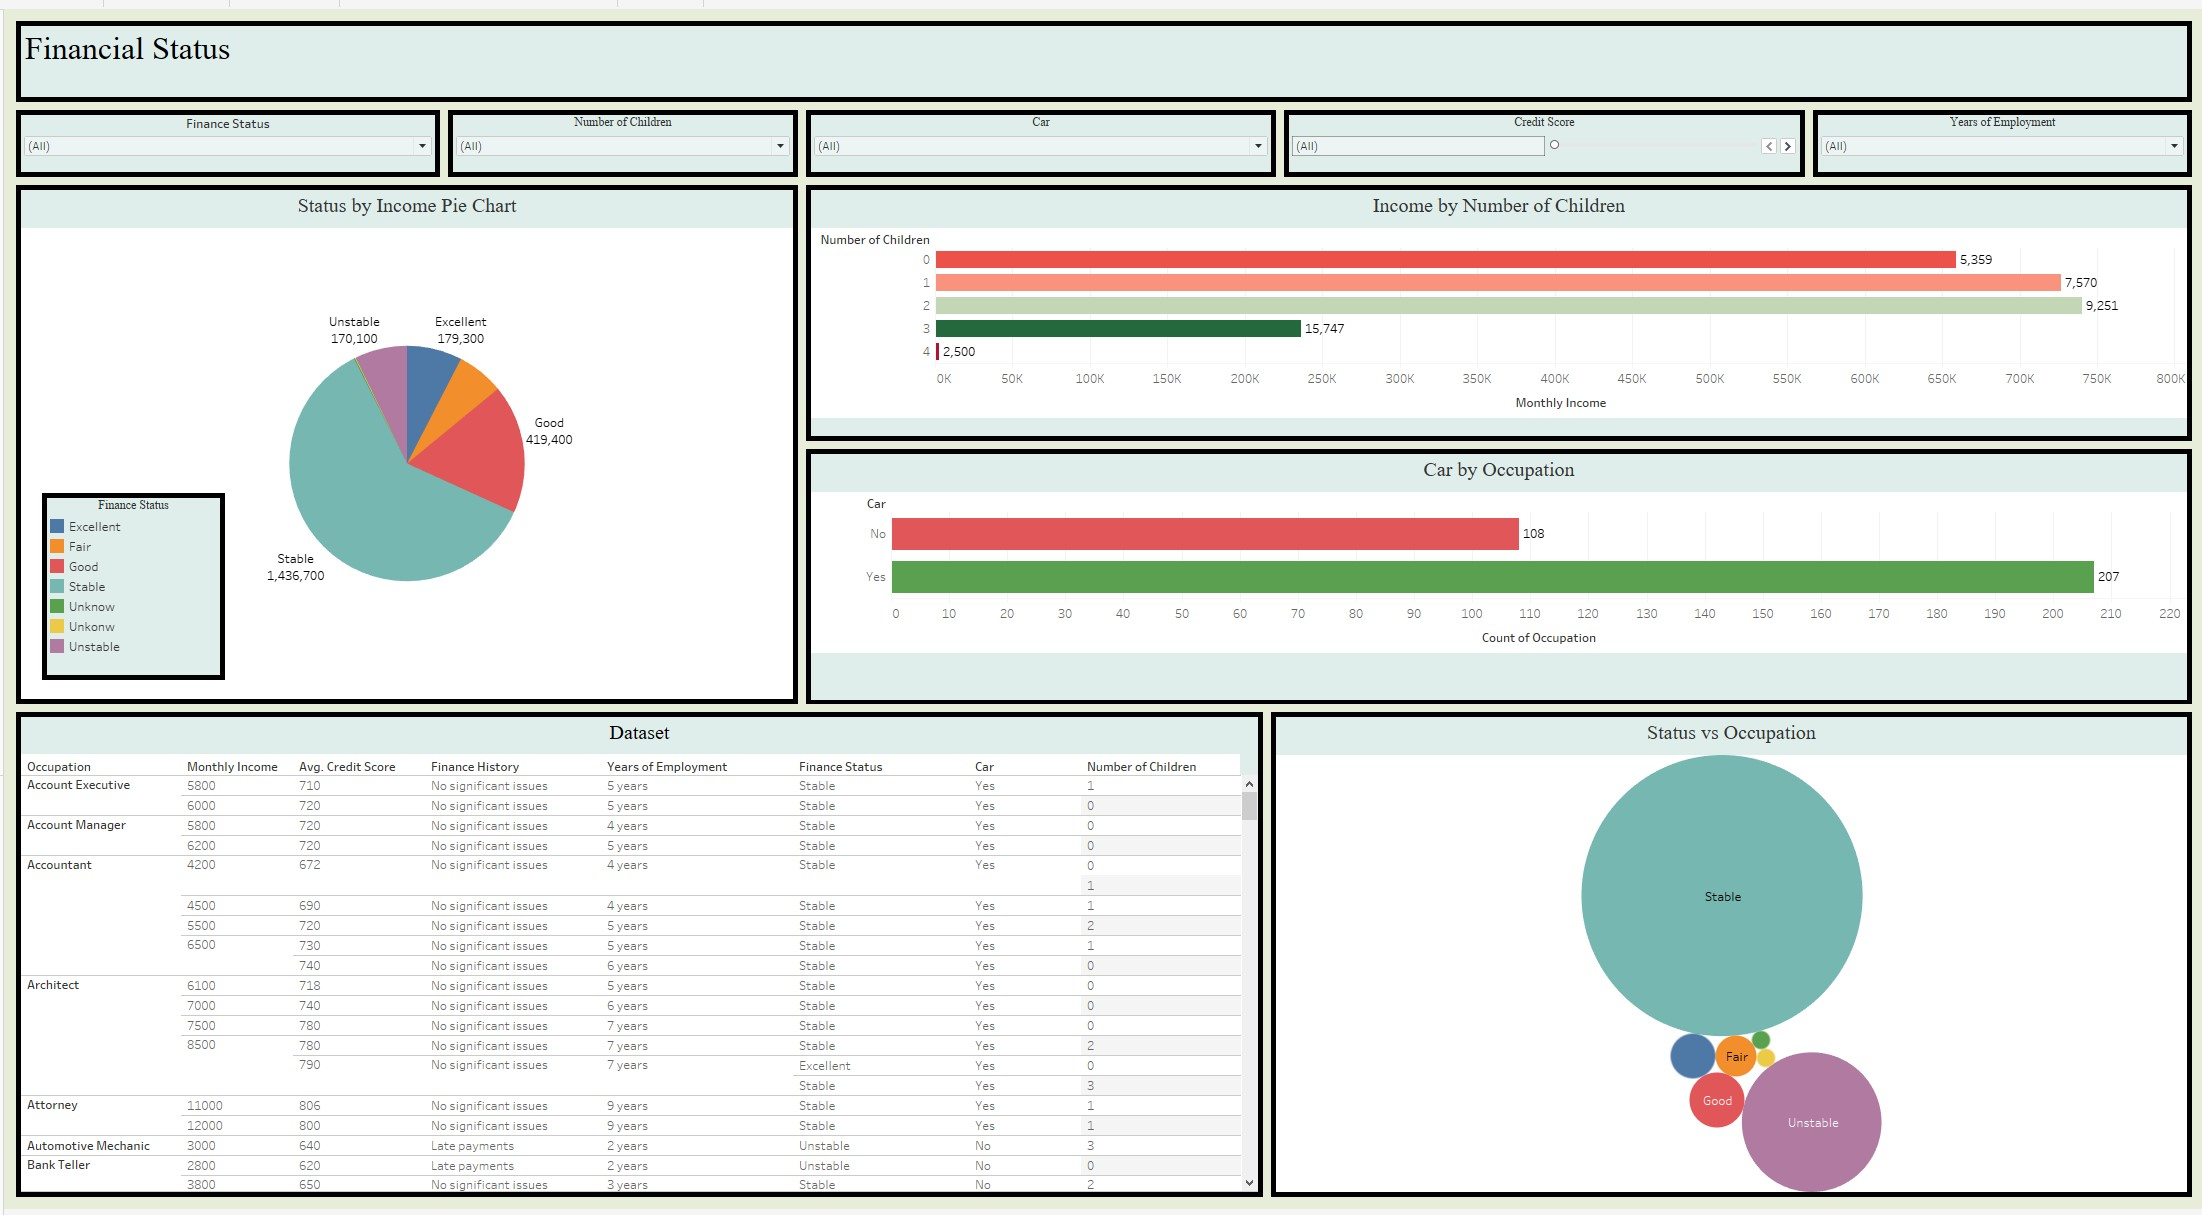

What the dashboard file says about the page in this screenshot:
{"tool":"tableau","page":{"name":"Dashboard 1","canvas":[2200,1200],"ordinal":0},"visuals":[{"type":"worksheet","title":"Title","mark":"Automatic","box":[8,8,2184,89]},{"type":"filter","title":"Dataset","param":"[federated.0h0cd3j0ruo2rf1fbojks0ylufdp].[none:Finance Status:nk]","box":[8,97,432,74.9]},{"type":"filter","title":"Dataset","param":"[federated.0h0cd3j0ruo2rf1fbojks0ylufdp].[none:Number of Children:ok]","box":[440,97,358,74.9]},{"type":"filter","title":"Dataset","param":"[federated.0h0cd3j0ruo2rf1fbojks0ylufdp].[none:Car:nk]","box":[798,97,478,75]},{"type":"filter","title":"Dataset","param":"[federated.0h0cd3j0ruo2rf1fbojks0ylufdp].[avg:Credit Score:ok]","box":[1276,97,529,75]},{"type":"filter","title":"Dataset","param":"[federated.0h0cd3j0ruo2rf1fbojks0ylufdp].[none:Years of Employment:nk]","box":[1805,97,387,75]},{"type":"worksheet","title":"Status by Income Pie Chart","mark":"Pie","box":[8,171.9,790,527.1]},{"type":"worksheet","title":"Income by Number of Children","mark":"Automatic","rows":["Number of Children"],"cols":["Monthly Income"],"box":[798,172,1394,263.5]},{"type":"worksheet","title":"Car by Occupation","mark":"Automatic","rows":["Car"],"cols":["Occupation"],"box":[798,435.5,1394,263.5]},{"type":"legend","title":"Status by Income Pie Chart","param":"[federated.0h0cd3j0ruo2rf1fbojks0ylufdp].[none:Finance Status:nk]","box":[38,484,183,187]},{"type":"worksheet","title":"Dataset","mark":"Automatic","rows":["Occupation","Monthly Income","Credit Score","Finance History","Years of Employment","Finance Status","Car","Number of Children"],"box":[8,699.1,1255,492.9]},{"type":"worksheet","title":"Status vs Occupation","mark":"Circle","box":[1263,699.1,929,492.9]}]}

Visuals, with their boxes in screenshot pixels (x1, y1, x2, y2), scaled from the page's 2200x1200 canvas onto the 2202x1215 screenshot:
"Title" worksheet: locate(8, 8, 2194, 98)
"Dataset" filter: locate(8, 98, 440, 174)
"Dataset" filter: locate(440, 98, 799, 174)
"Dataset" filter: locate(799, 98, 1277, 174)
"Dataset" filter: locate(1277, 98, 1807, 174)
"Dataset" filter: locate(1807, 98, 2194, 174)
"Status by Income Pie Chart" worksheet (Pie marks): locate(8, 174, 799, 708)
"Income by Number of Children" worksheet: locate(799, 174, 2194, 441)
"Car by Occupation" worksheet: locate(799, 441, 2194, 708)
"Status by Income Pie Chart" legend: locate(38, 490, 221, 679)
"Dataset" worksheet: locate(8, 708, 1264, 1207)
"Status vs Occupation" worksheet (Circle marks): locate(1264, 708, 2194, 1207)
